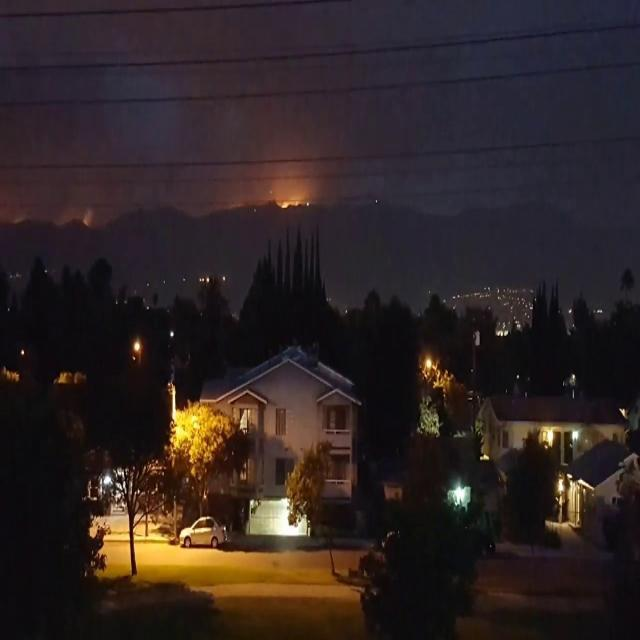Fire: (278, 196, 302, 212)
Smoke: (2, 3, 634, 324)
